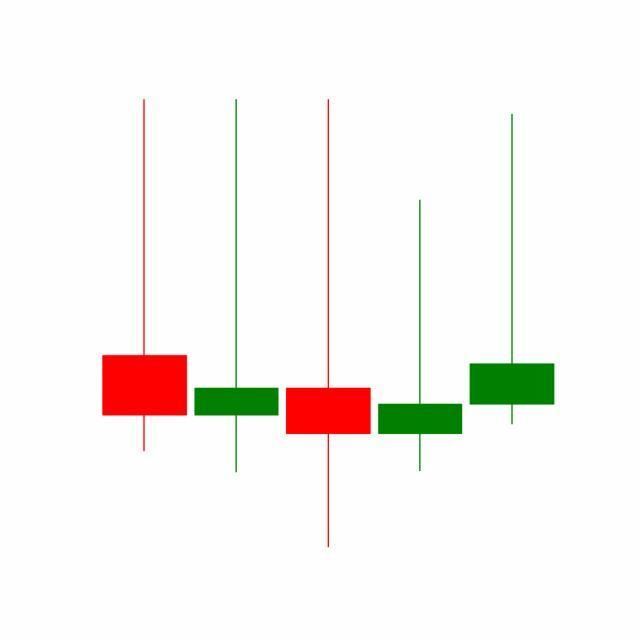Gravestone Doji: (374, 197, 468, 476)
